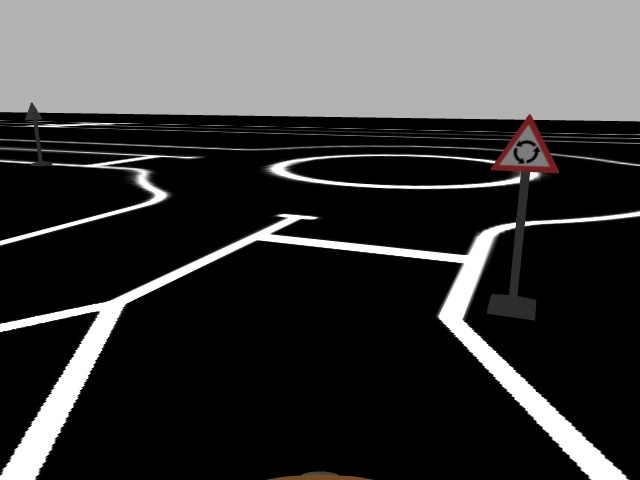roundabout: (489, 112, 559, 174)
